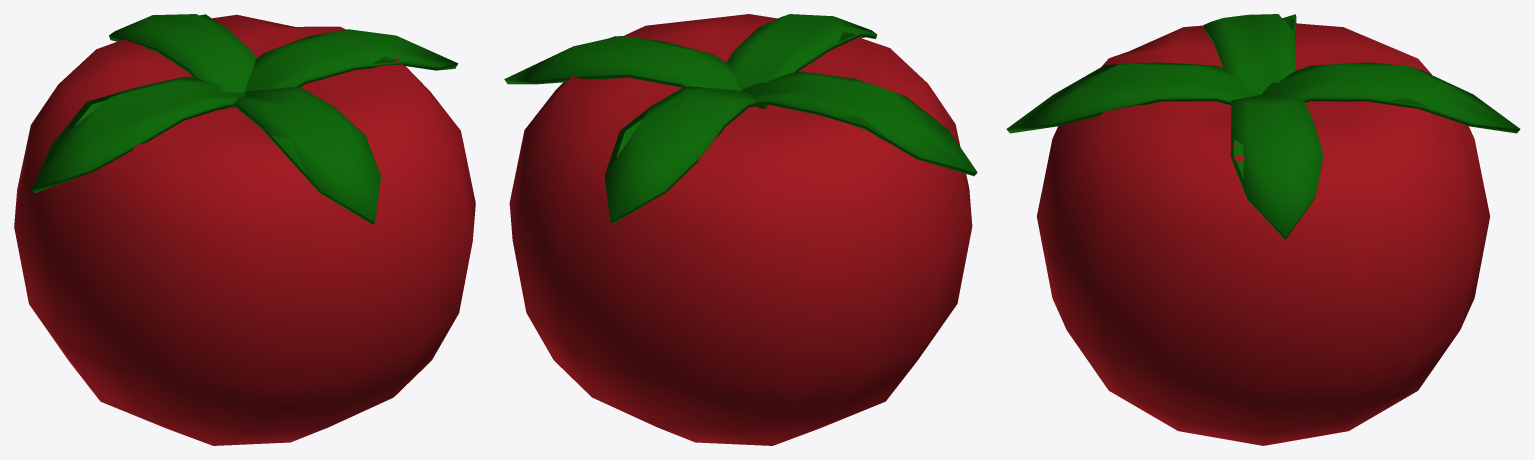
The model's file is Tomato.fbx.
3 renders of one model, left to right at view 1: azimuth 30°, elevation 25°; view 2: azimuth 150°, elevation 25°; view 3: azimuth 270°, elevation 25°, orthographic.
Visible parts, largest first — view 1: Tomato; view 2: Tomato; view 3: Tomato.
Part boxes in pixels (x1,y1,x2,y2): Tomato: [14, 14, 475, 445]; Tomato: [504, 14, 977, 445]; Tomato: [1006, 14, 1520, 445].
Size of the model in its own units: 190 by 145 by 190.
